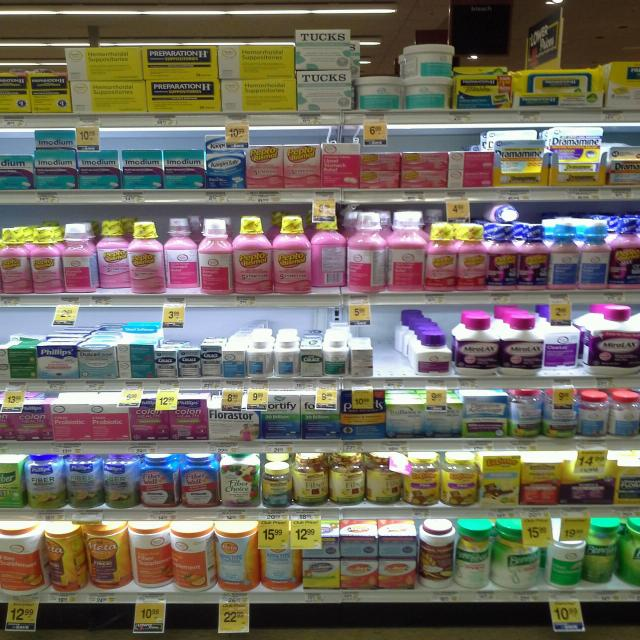empty: (372, 319, 399, 377)
